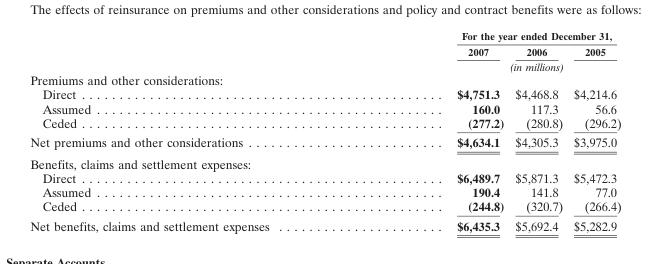table: (29, 29, 620, 232)
table column: (29, 29, 362, 232), (362, 29, 509, 232), (509, 29, 567, 232), (567, 29, 620, 232)
table column header: (29, 29, 620, 72)
table projected row header: (29, 152, 620, 170), (29, 72, 620, 87)
table row: (29, 132, 620, 152), (29, 152, 620, 170), (29, 115, 620, 132), (29, 198, 620, 215), (29, 215, 620, 232), (29, 43, 620, 58), (29, 72, 620, 87), (29, 29, 620, 43), (29, 58, 620, 72), (29, 87, 620, 101), (29, 101, 620, 115), (29, 170, 620, 184), (29, 184, 620, 198)
table spanning cell: (362, 29, 620, 43), (362, 58, 620, 72)
